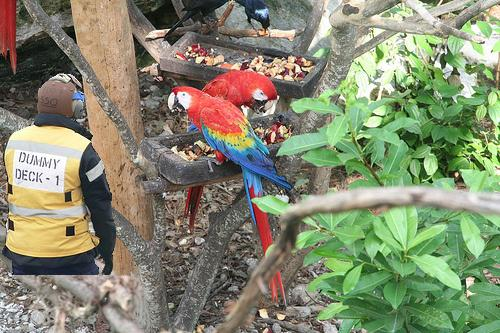tampered: (3, 74, 116, 275)
